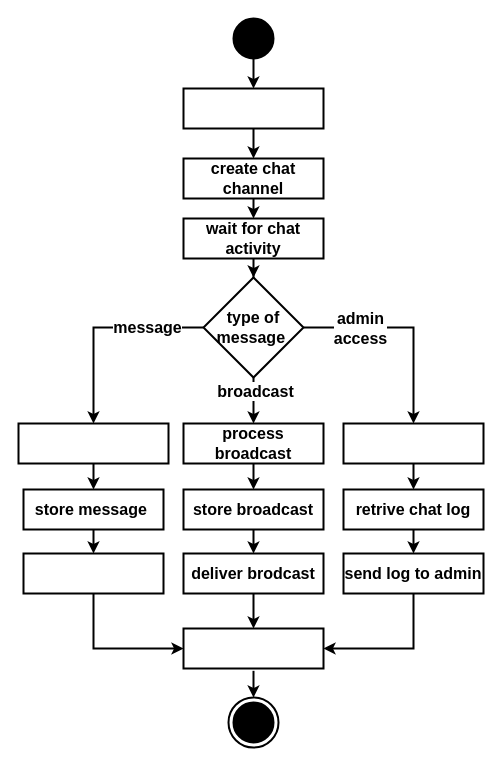
Some shapes in this 501 by 765 pixel diagram are drawn without their labels. Each missing label, with the box of its shape:
booking confirmed event: (182, 87, 324, 129)
deliver message: (22, 552, 164, 594)
procces individual message: (17, 422, 169, 464)
provide log to admin: (342, 422, 484, 464)
store logs: (182, 627, 324, 669)
